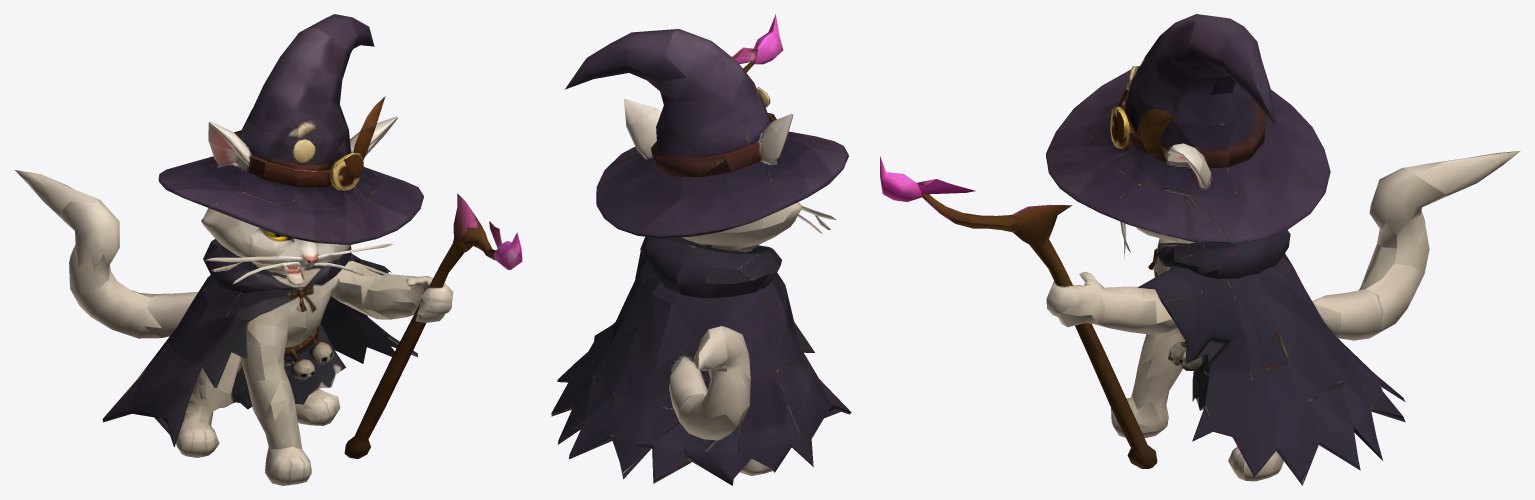
3 renders of one model, left to right at view 1: azimuth 30°, elevation 25°; view 2: azimuth 150°, elevation 25°; view 3: azimuth 270°, elevation 25°, orthographic. The views are drawn at different scales.
Parts seen in each view (by area): view 1: mesh_node; view 2: mesh_node; view 3: mesh_node.
Part boxes in pixels (box(x1,y1,x2,y2)): mesh_node: box(15, 14, 522, 485); mesh_node: box(551, 14, 851, 485); mesh_node: box(880, 14, 1520, 485).
Size of the model in its own units: 0.5566 by 0.7754 by 1.
1 material, 1 textured.
